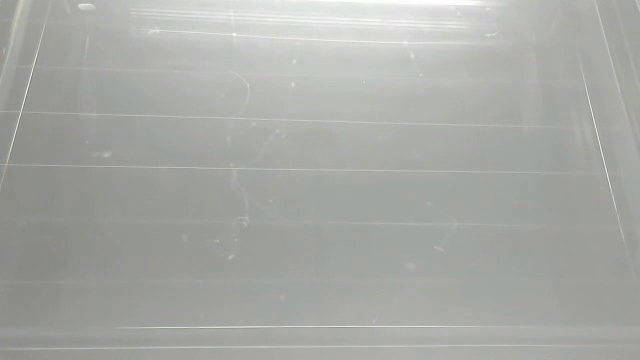alpha: (75, 2, 99, 11)
